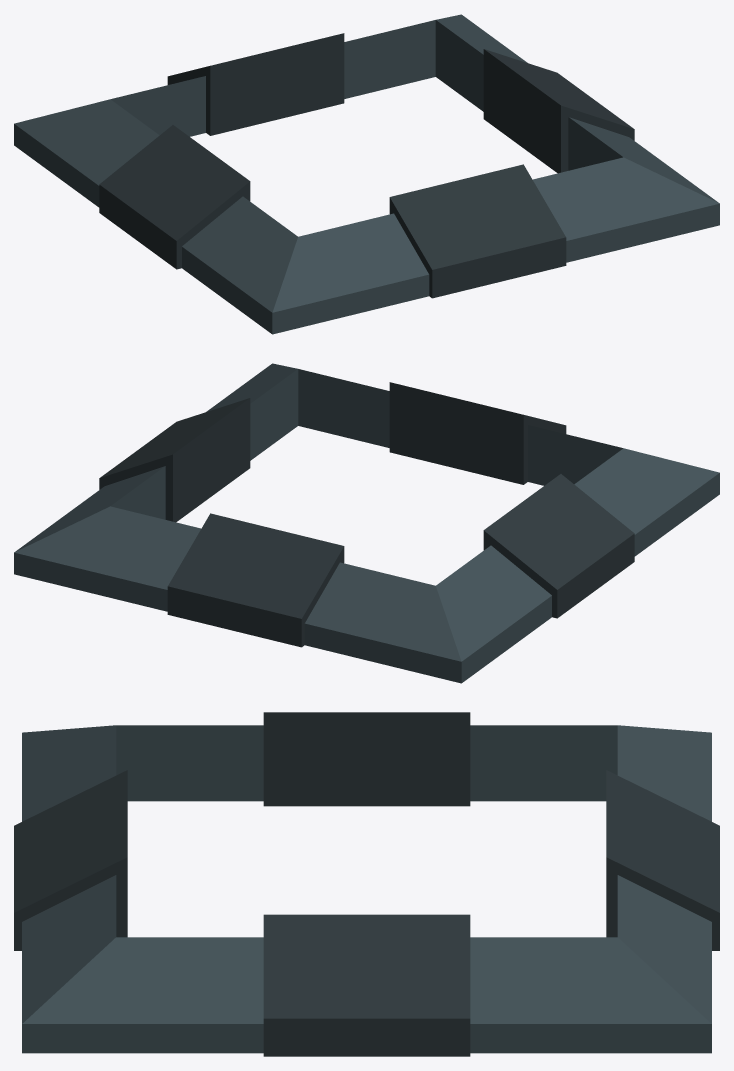
The model's file is Controller Border 01.FBX.
3 renders of one model, top to bottom at view 1: azimuth 30°, elevation 25°; view 2: azimuth 150°, elevation 25°; view 3: azimuth 270°, elevation 25°, orthographic. The views are drawn at different scales.
Visible parts, largest first — view 1: Controller Border 01; view 2: Controller Border 01; view 3: Controller Border 01.
Part boxes in pixels (<box>): Controller Border 01: <box>14,14,719,334</box>; Controller Border 01: <box>14,363,719,683</box>; Controller Border 01: <box>14,712,719,1056</box>.
Size of the model in its own units: 563 by 82.56 by 563.
1 material, 1 textured.
